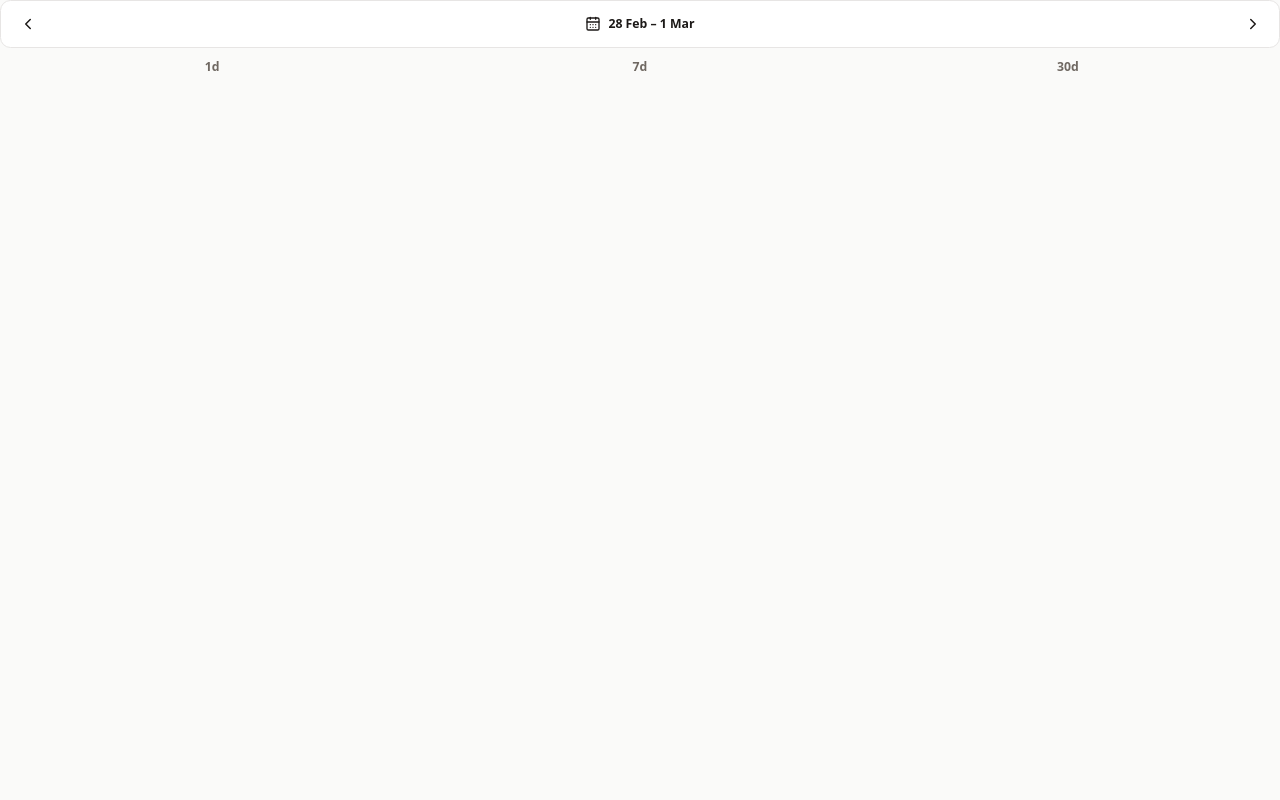
analytics date choices › preserves a custom leap-boundary span without clamping a future end
Click the button with aria-label "Choose dates": (640, 24) 54,4 -> 1226,43
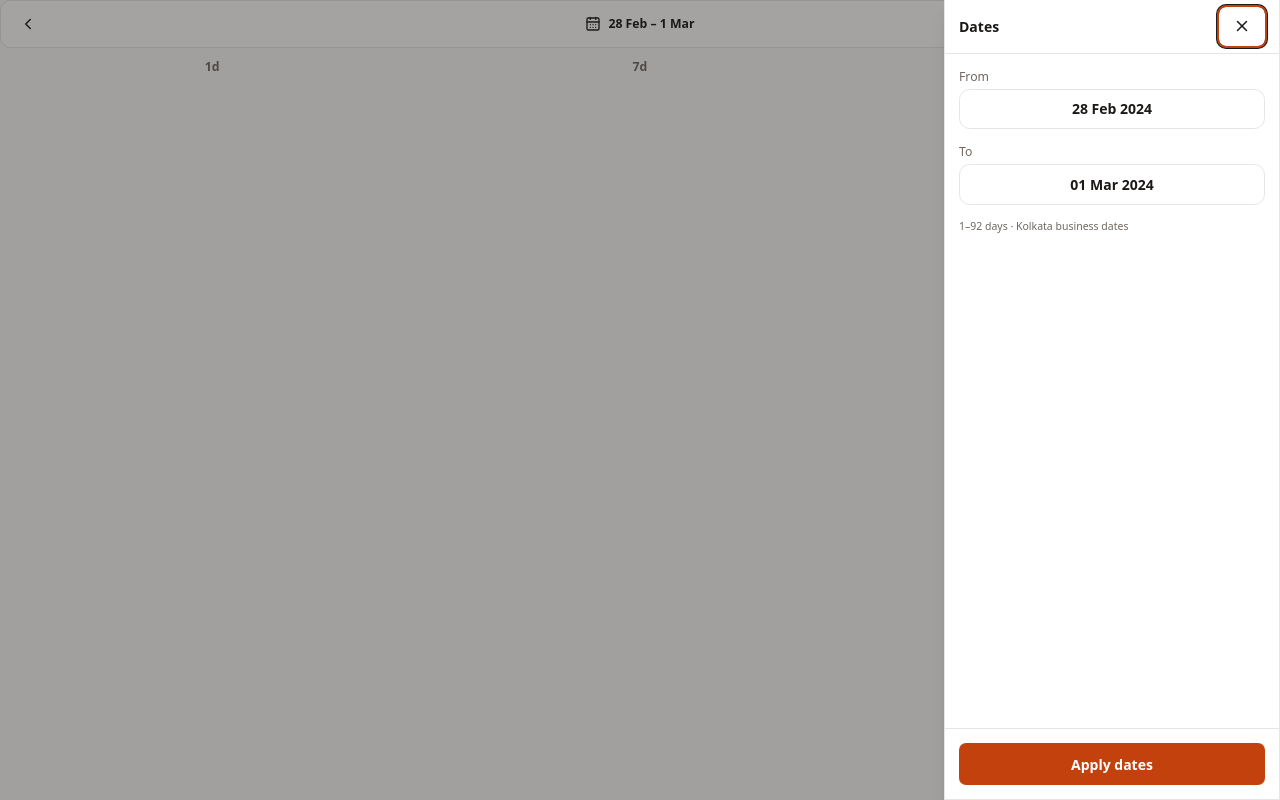
In the date field labelled "28 Feb 2024": (1112, 109) 960,90 -> 1264,128, type "2026-10-10"
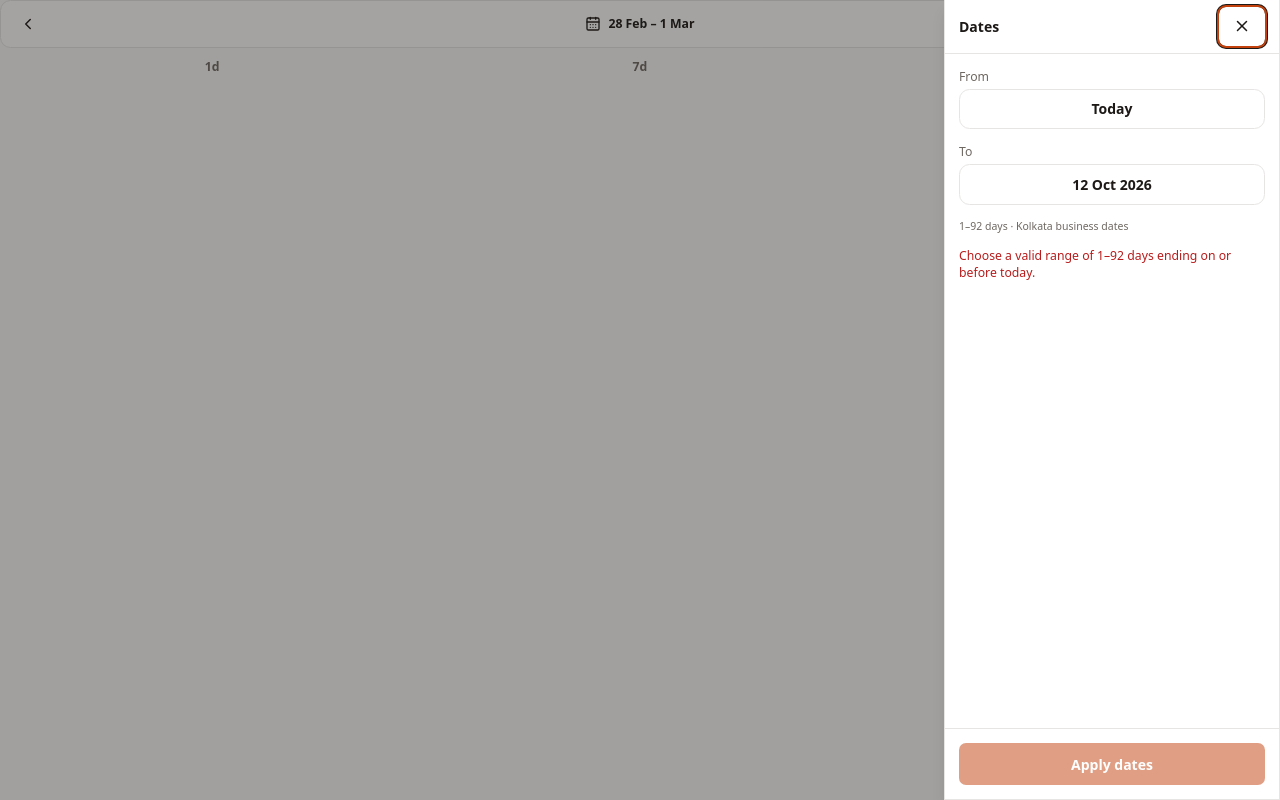
Result: the button "Apply dates" is disabled at 959,743 -> 1265,785
In the date field labelled "12 Oct 2026": (1112, 184) 960,165 -> 1264,204, type "2026-10-10"
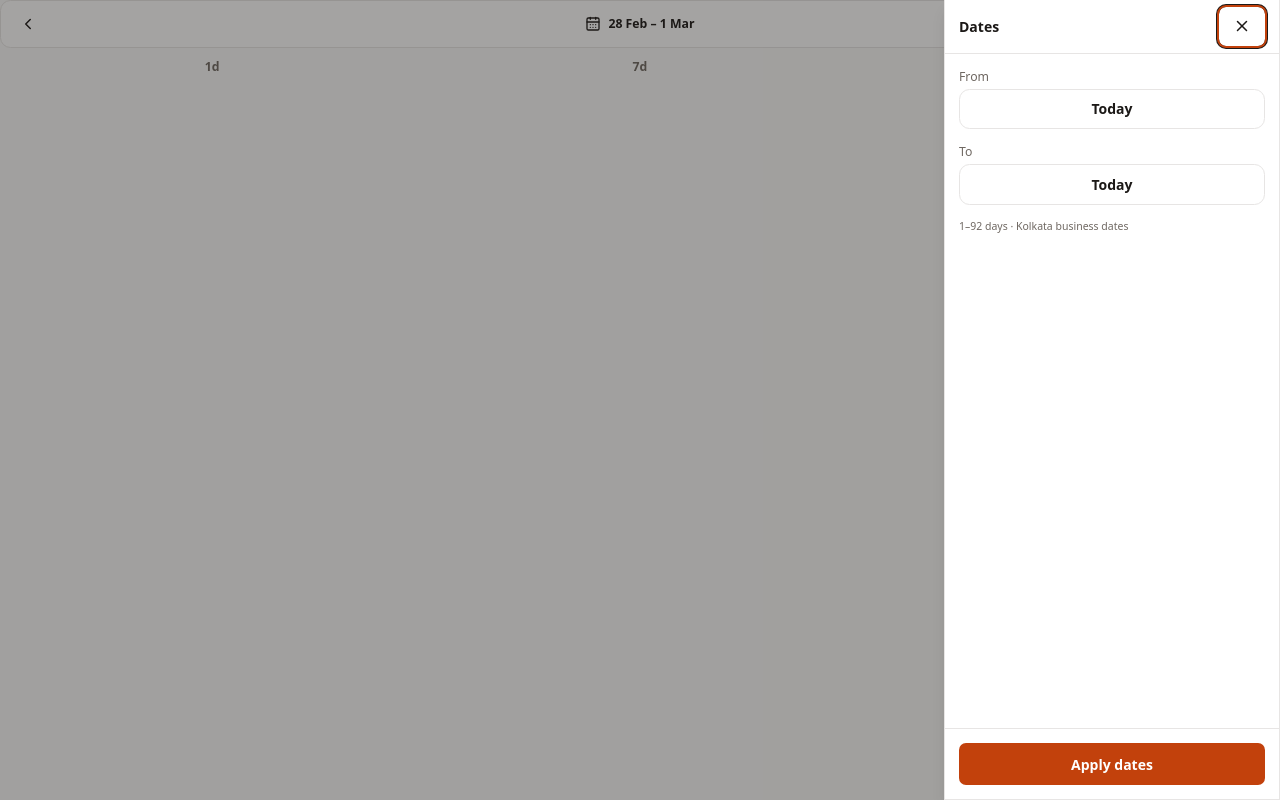
Result: the button "Apply dates" is enabled at 959,743 -> 1265,785
In the date field labelled "Today": (1112, 109) 960,90 -> 1264,128, type "2026-01-01"
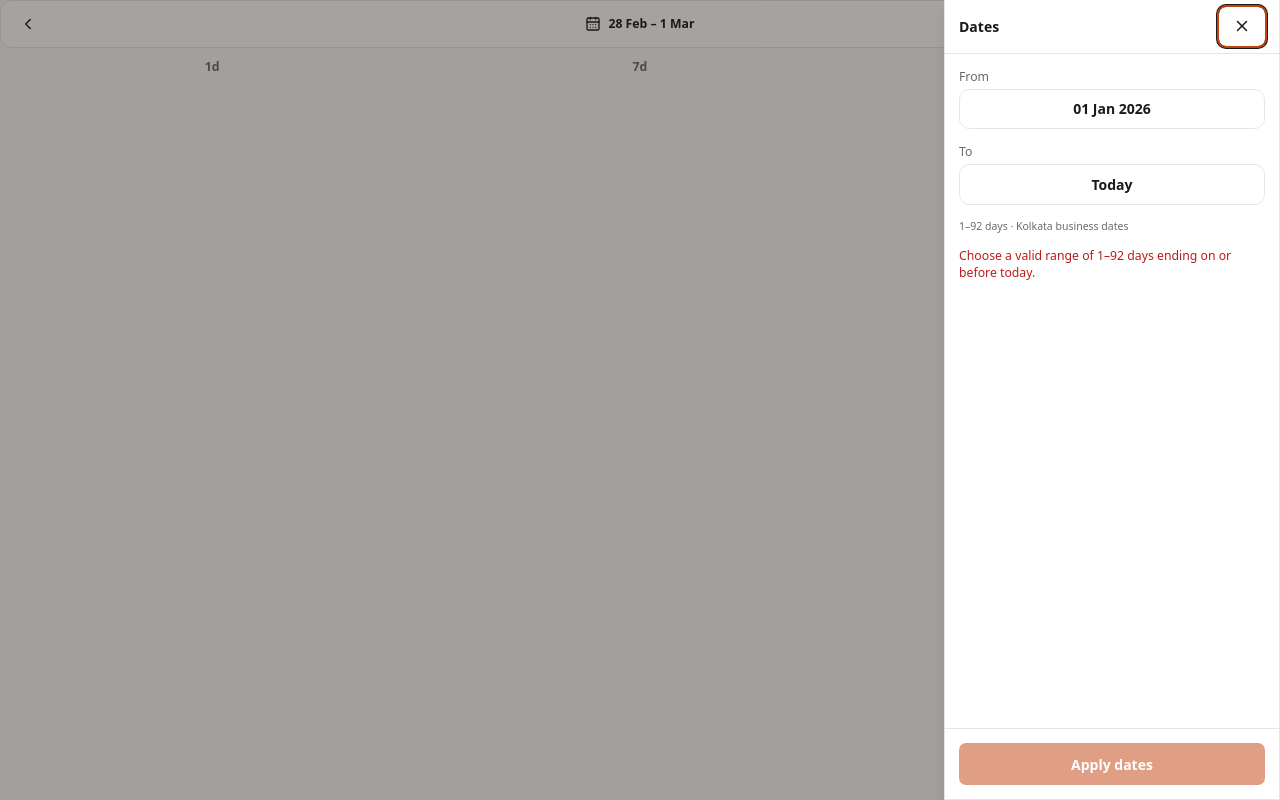
Result: the button "Apply dates" is disabled at 959,743 -> 1265,785
